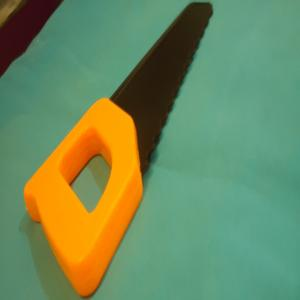serrote: (23, 1, 214, 298)
